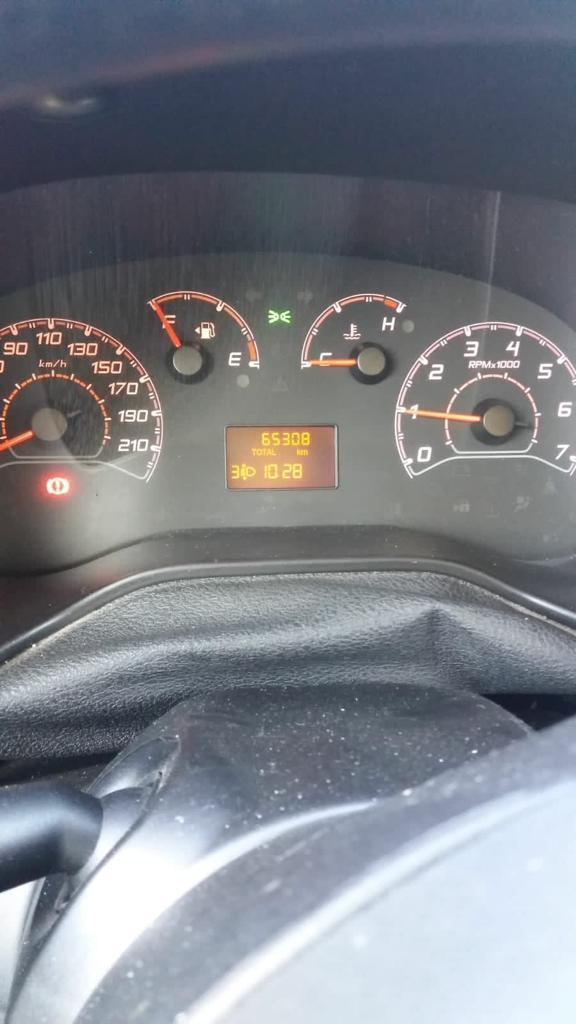0: (267, 463, 278, 479), (291, 432, 300, 445)
1: (263, 464, 267, 478)
2: (281, 463, 291, 478)
3: (281, 432, 290, 445), (231, 464, 239, 478)
5: (271, 432, 280, 445)
6: (261, 432, 270, 445)
8: (292, 463, 302, 478), (301, 432, 309, 445)
X: (271, 447, 278, 456), (301, 448, 308, 456), (250, 447, 256, 456), (256, 448, 262, 456), (266, 448, 271, 456), (296, 446, 300, 456), (262, 447, 266, 456)
odometer: (223, 423, 338, 491)
